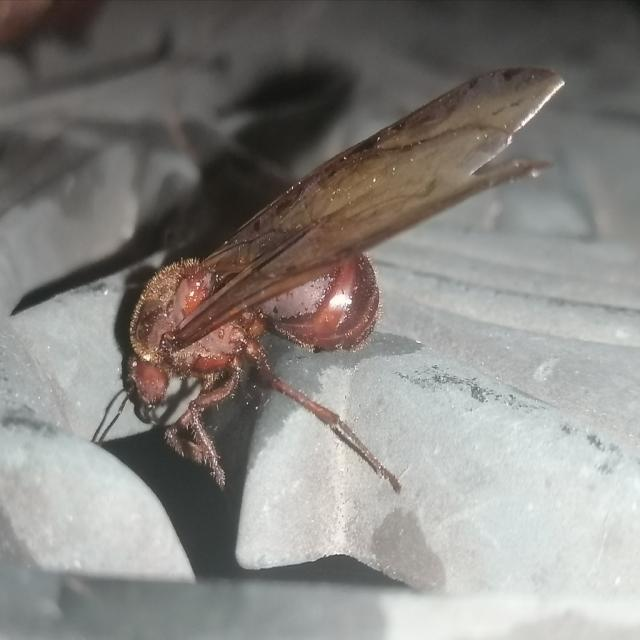Alive-Female-Alate: (92, 65, 568, 496)
